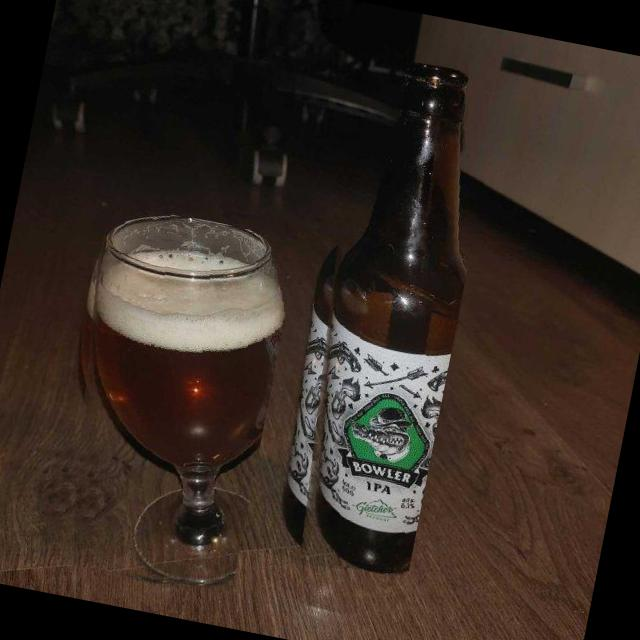Glass: (263, 47, 505, 580), (34, 202, 300, 596)
